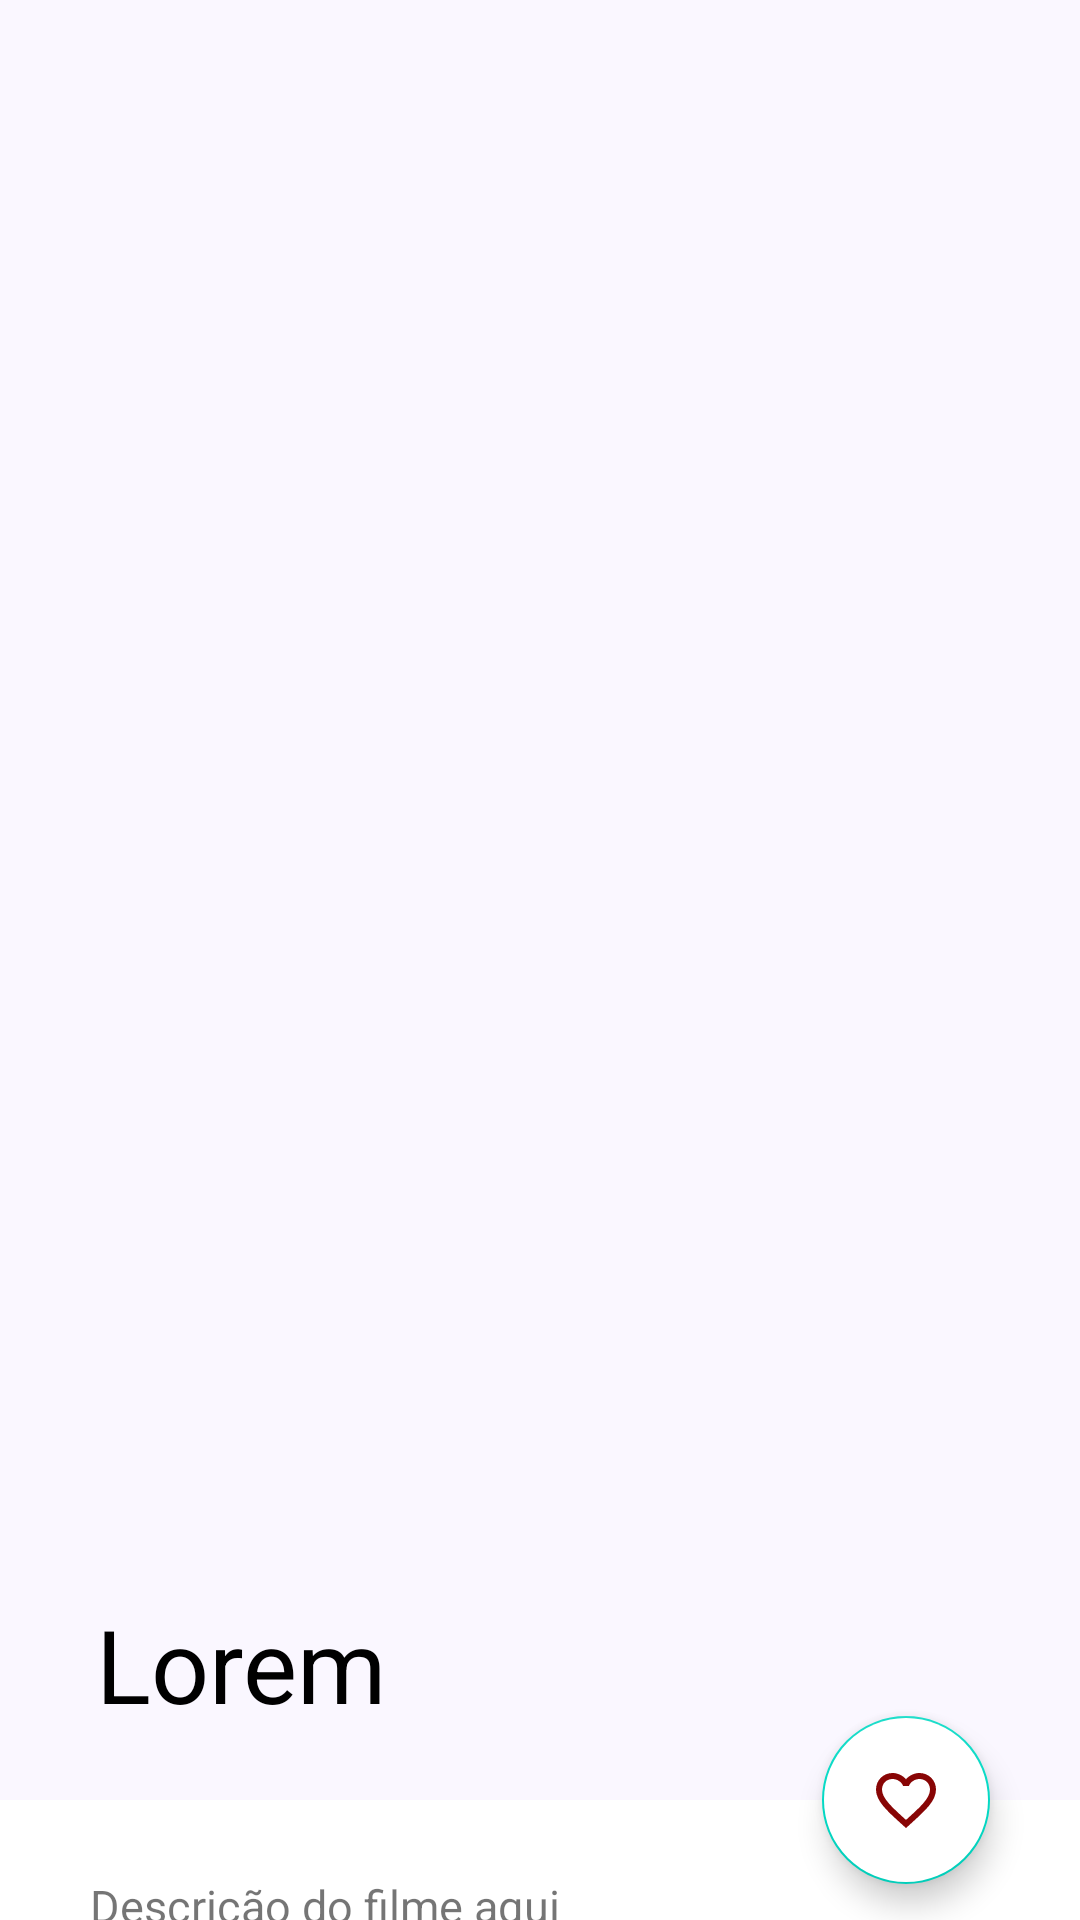

Point at icon controls on the screen. Image size 1080 × 1920, points as (x,y).
favorite border: (906,1800)
